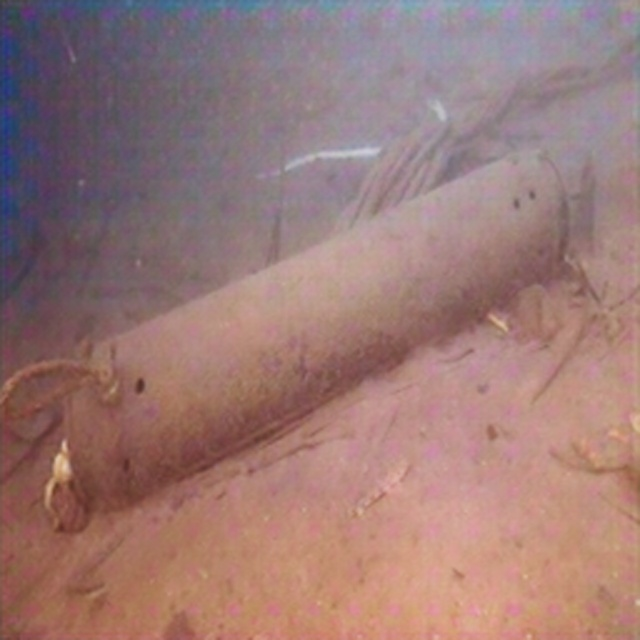mine: (61, 148, 572, 516)
